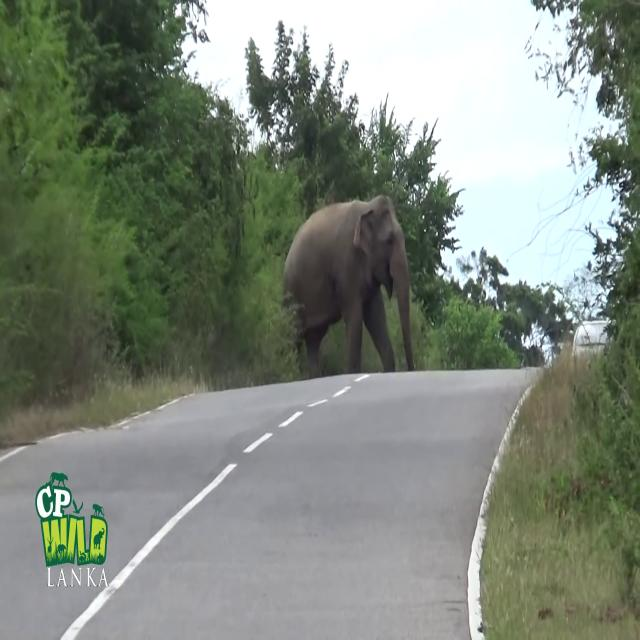Elephant: (281, 193, 415, 379)
